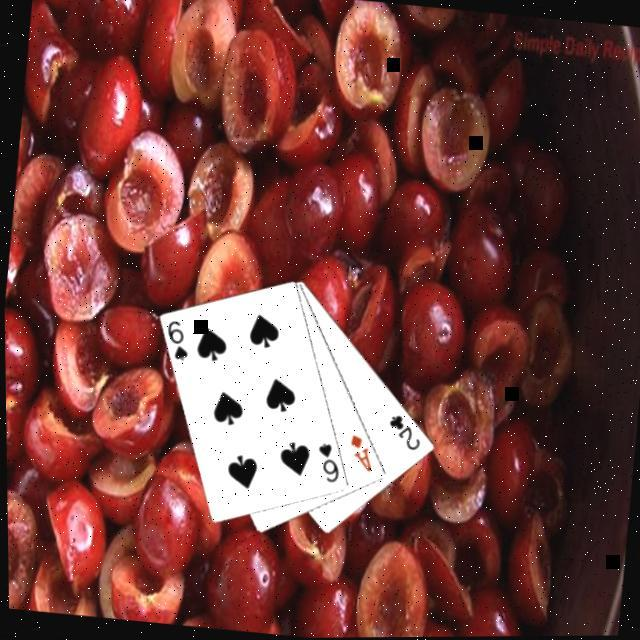2C: (380, 409, 424, 454)
6S: (309, 438, 342, 486), (159, 316, 192, 362)
AD: (341, 430, 376, 474)
